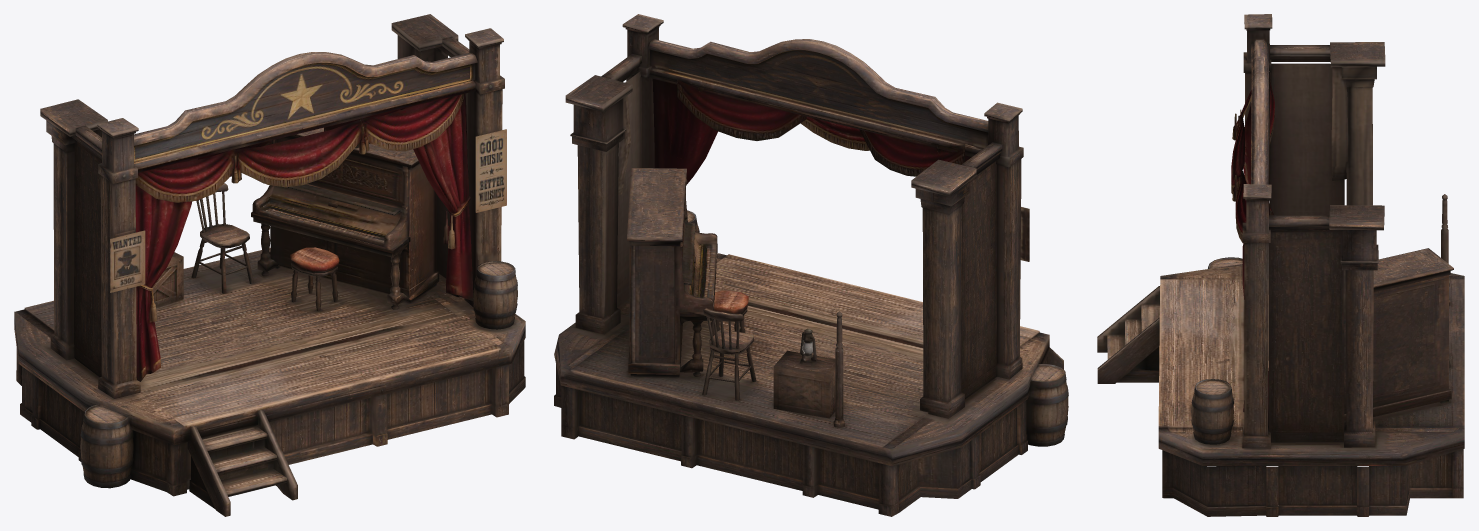
File: stage.glb
3 views of the same model, side by side, from view 1: azimuth 30°, elevation 25°; view 2: azimuth 150°, elevation 25°; view 3: azimuth 270°, elevation 25° (orthographic). The views are drawn at different scales.
Parts seen in each view (by area): view 1: tripo_node_9148d901-b430-48b6-9693-105064ce76d6; view 2: tripo_node_9148d901-b430-48b6-9693-105064ce76d6; view 3: tripo_node_9148d901-b430-48b6-9693-105064ce76d6.
Boxes of the visible parts, left/top/right/bottom form: tripo_node_9148d901-b430-48b6-9693-105064ce76d6: left=14, top=14, right=525, bottom=516; tripo_node_9148d901-b430-48b6-9693-105064ce76d6: left=554, top=14, right=1068, bottom=516; tripo_node_9148d901-b430-48b6-9693-105064ce76d6: left=1097, top=14, right=1464, bottom=516.
Bounding box in the file's own units: 0.9995 × 0.8032 × 0.7759.
Materials: 1 (1 with a texture image).
